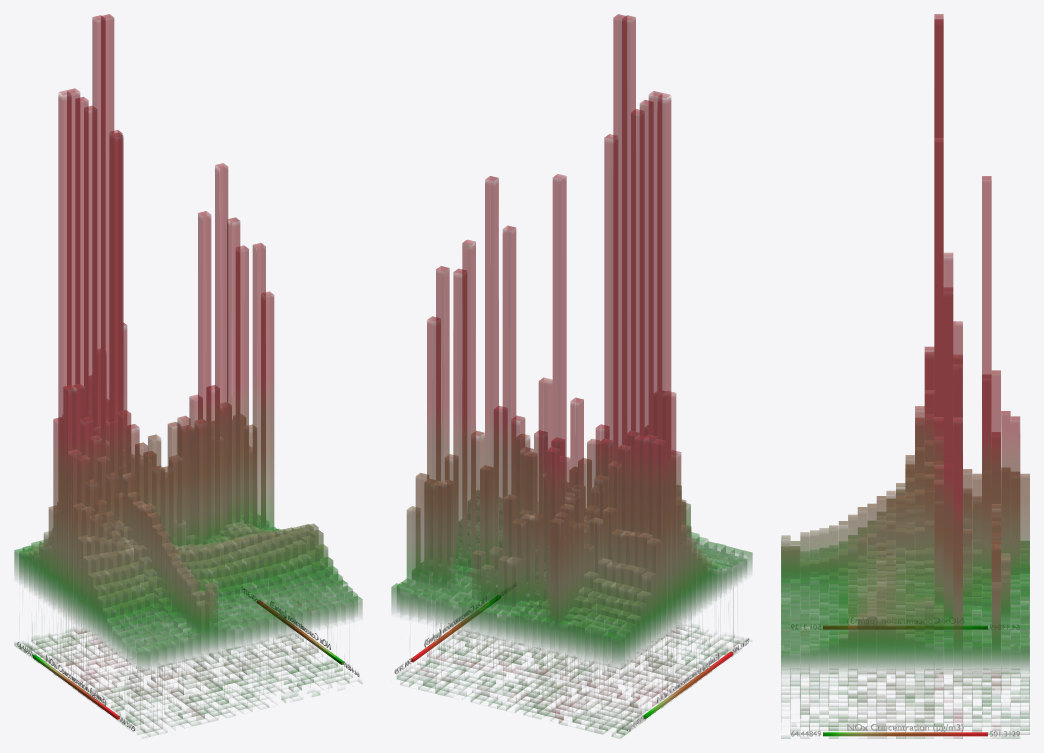
File: TQ3180NE_PM_NOx.gltf
3 views of the same model, side by side, from view 1: azimuth 30°, elevation 25°; view 2: azimuth 150°, elevation 25°; view 3: azimuth 270°, elevation 25° (orthographic). The views are drawn at different scales.
Visible parts, largest first — view 1: Cube.677; view 2: Cube.677; view 3: Cube.677, Cube.001, Cube.002, Text.003.
Part boxes in pixels (x1=…): Cube.677: x1=14, y1=14, x2=362, y2=736; Cube.677: x1=391, y1=14, x2=752, y2=738; Cube.677: x1=781, y1=14, x2=1029, y2=738; Cube.001: x1=823, y1=732, x2=987, y2=736; Cube.002: x1=823, y1=626, x2=987, y2=629; Text.003: x1=847, y1=723, x2=963, y2=732.
Bounding box in the file's own units: 51.18 × 141 × 49.84.
3 materials, 2 textured.
